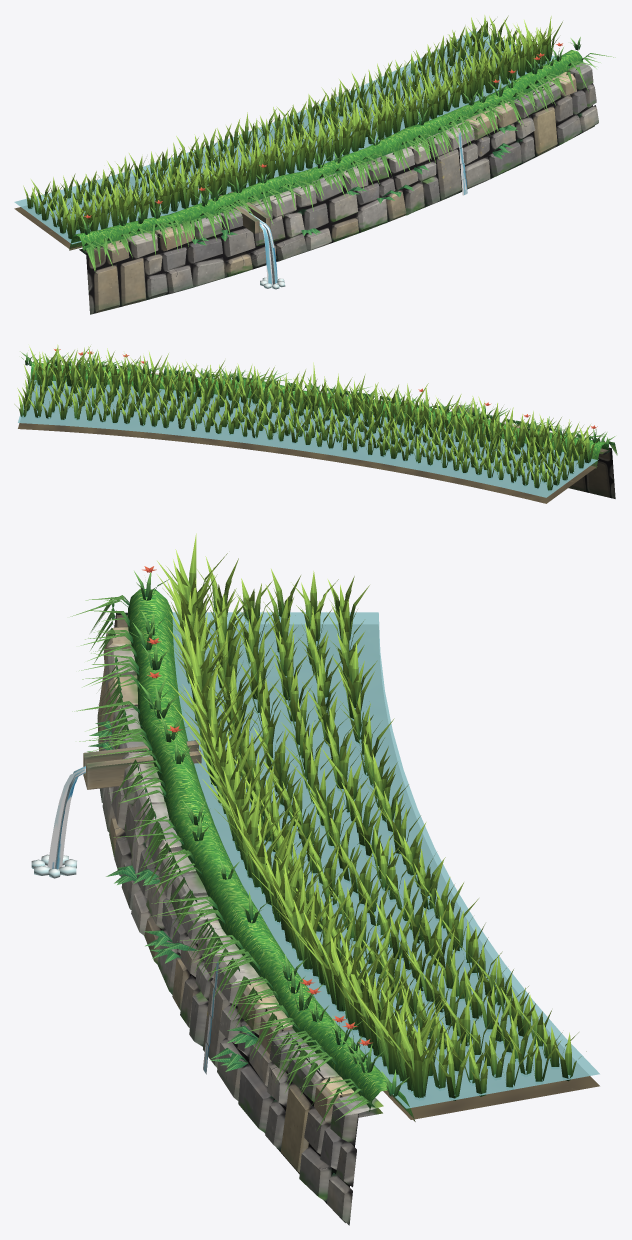
Rendered from terrace_convex_young.glb.
3 views of the same model, one above another, from view 1: azimuth 30°, elevation 25°; view 2: azimuth 150°, elevation 25°; view 3: azimuth 270°, elevation 25° (orthographic). The views are drawn at different scales.
Parts seen in each view (by area): view 1: terrace_convex_young_plants, terrace_convex_young_wall, terrace_convex_young_dike, terrace_convex_young_water, terrace_convex_young_spout_fall, terrace_convex_young_spout; view 2: terrace_convex_young_plants, terrace_convex_young_water, terrace_convex_young_dike, terrace_convex_young_wall; view 3: terrace_convex_young_plants, terrace_convex_young_water, terrace_convex_young_wall, terrace_convex_young_dike, terrace_convex_young_spout, terrace_convex_young_spout_fall.
Part boxes in pixels (x1=…): terrace_convex_young_plants: x1=23, y1=15, x2=615, y2=272; terrace_convex_young_wall: x1=79, y1=63, x2=598, y2=314; terrace_convex_young_dike: x1=14, y1=43, x2=583, y2=250; terrace_convex_young_water: x1=14, y1=31, x2=555, y2=244; terrace_convex_young_spout_fall: x1=249, y1=213, x2=277, y2=284; terrace_convex_young_spout: x1=219, y1=191, x2=270, y2=233; terrace_convex_young_plants: x1=14, y1=344, x2=617, y2=490; terrace_convex_young_water: x1=18, y1=379, x2=598, y2=497; terrace_convex_young_dike: x1=18, y1=362, x2=608, y2=503; terrace_convex_young_wall: x1=150, y1=373, x2=615, y2=498; terrace_convex_young_plants: x1=70, y1=533, x2=586, y2=1130; terrace_convex_young_water: x1=172, y1=612, x2=599, y2=1108; terrace_convex_young_wall: x1=97, y1=610, x2=383, y2=1225; terrace_convex_young_dike: x1=127, y1=588, x2=599, y2=1121; terrace_convex_young_spout: x1=83, y1=740, x2=201, y2=789; terrace_convex_young_spout_fall: x1=47, y1=766, x2=85, y2=869.
Size of the model in its own units: 12.36 by 1.99 by 5.53.
Materials: 6 (5 with a texture image).
